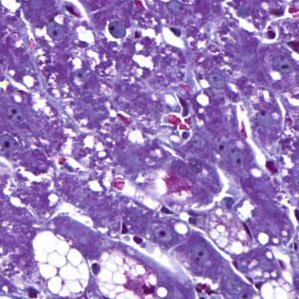ballooning: (28, 228, 94, 296), (92, 248, 161, 298), (204, 207, 254, 258)
